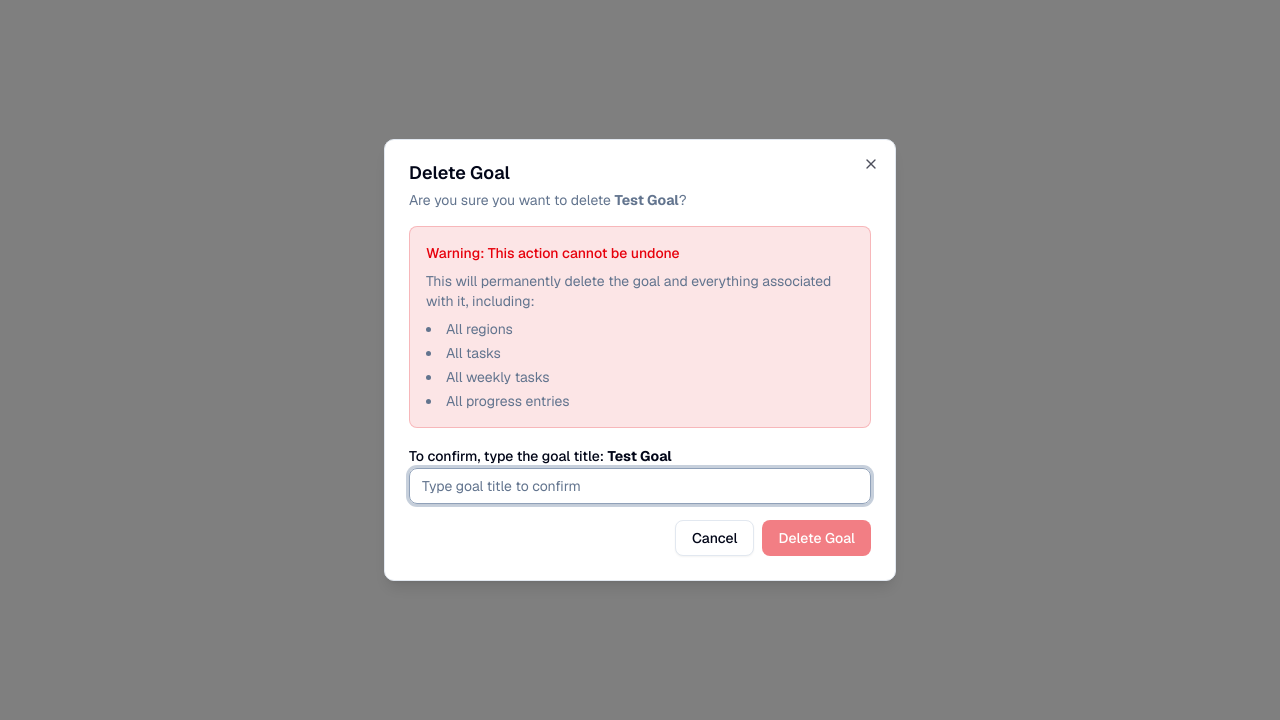
Test: DeleteGoalDialog › requires exact goal title to enable delete button
This screenshot has width=1280, height=720.
Expected: the button "Delete Goal" is disabled, [762,520,871,556]
# Type wrong name
Type "Wrong Name" into the field with placeholder "Type goal title to confirm". click: (640, 486)
box: [409,468,871,504]
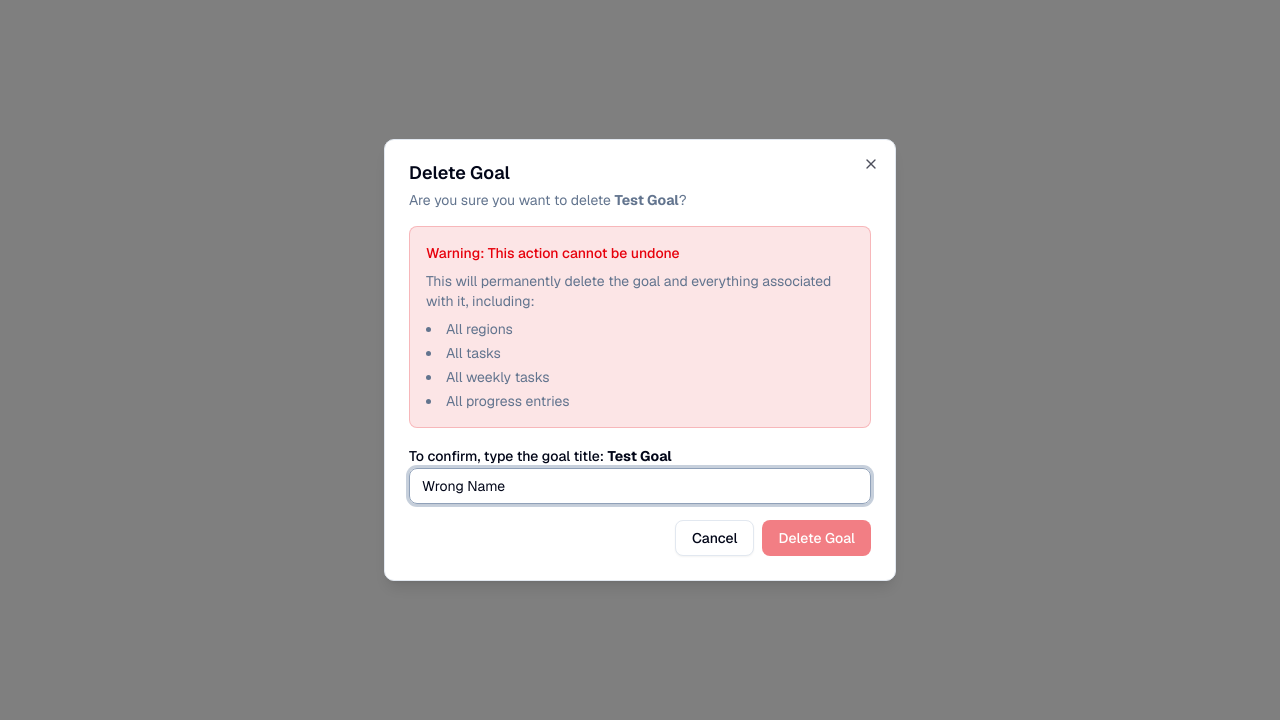
Expected: the button "Delete Goal" is disabled, [762,520,871,556]
# Clear and type correct name
Replace the text in the field with placeholder "Type goal title to confirm" with "Test Goal". click: (640, 486)
box: [409,468,871,504]
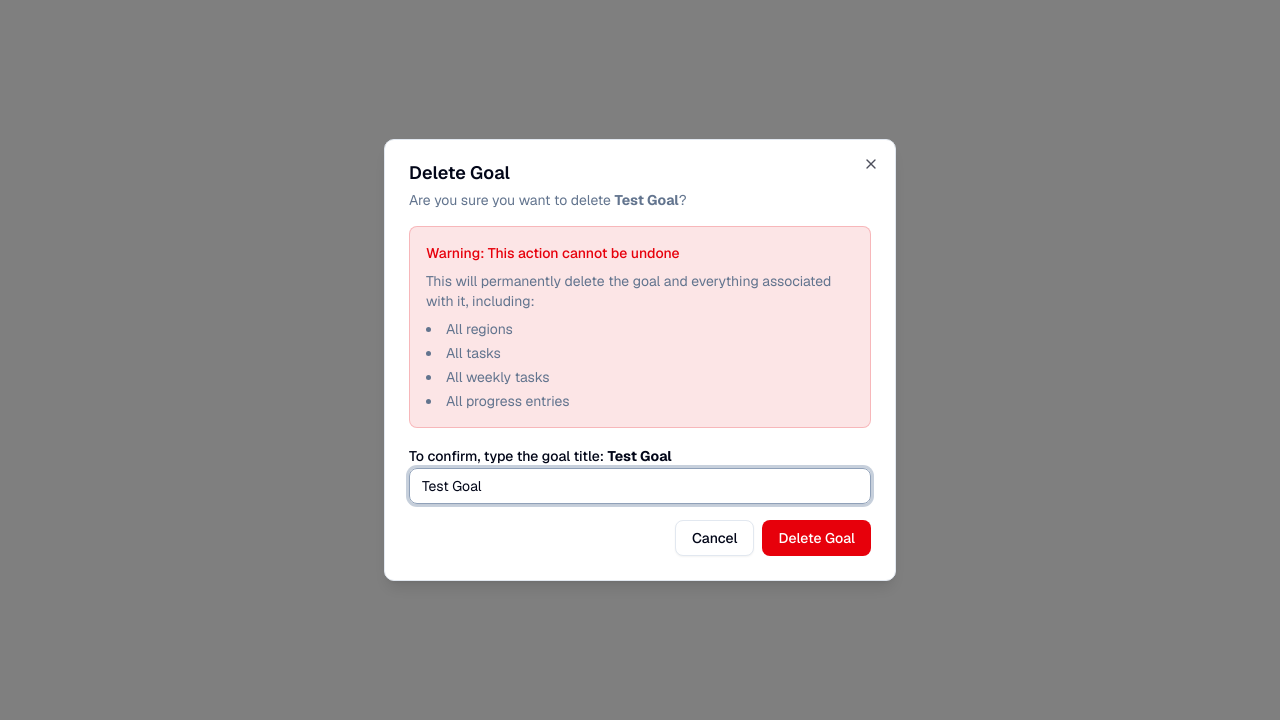
Now the button "Delete Goal" is enabled, box [762,520,871,556]
